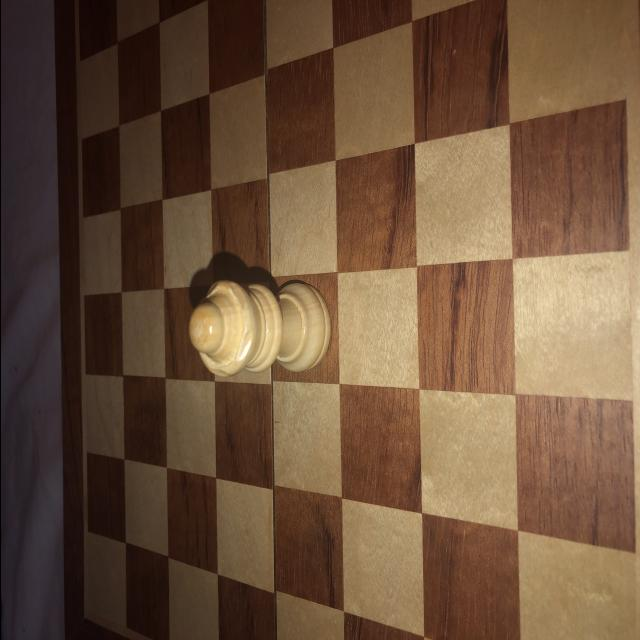white_queen: (185, 279, 328, 379)
